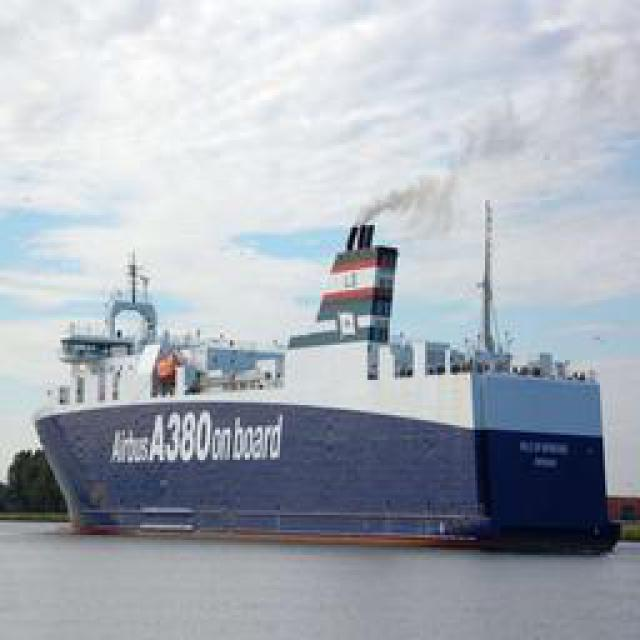Ship: (37, 196, 625, 551)
